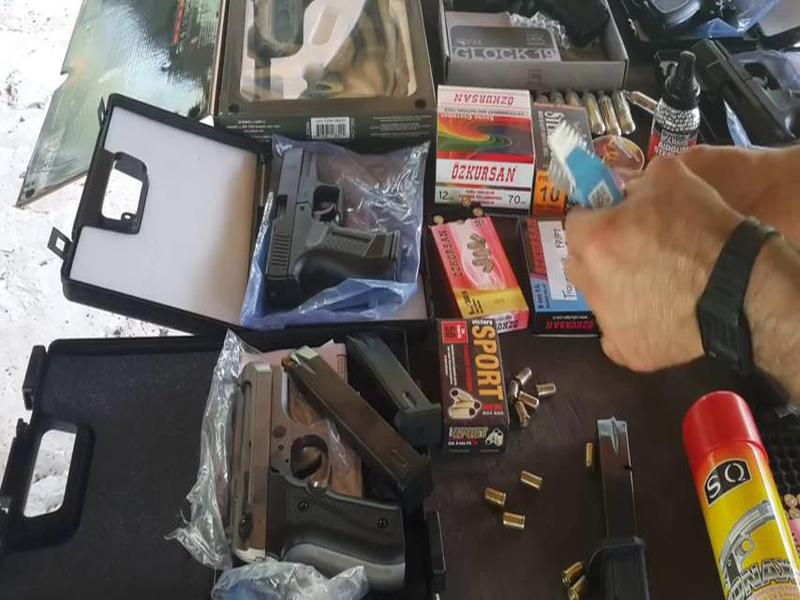Pistola: (165, 337, 431, 577), (247, 127, 419, 320)
